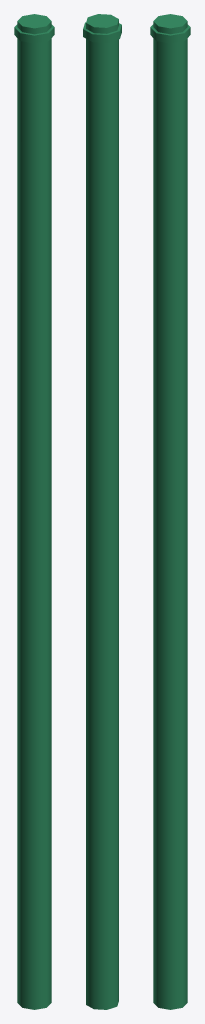
File: mcp_street_fence_post_LOD_0.FBX
The picture shows the model from 3 angles, left to right: view 1: azimuth 90°, elevation 25°; view 2: azimuth 150°, elevation 25°; view 3: azimuth 270°, elevation 25°; orthographic projection.
Parts seen in each view (by area): view 1: Object1036; view 2: Object1036; view 3: Object1036.
Boxes of the visible parts, left/top/right/bottom form: Object1036: left=14, top=14, right=54, bottom=1009; Object1036: left=83, top=14, right=121, bottom=1009; Object1036: left=150, top=14, right=190, bottom=1009.
Size of the model in its own units: 11.4 by 307 by 11.4.
